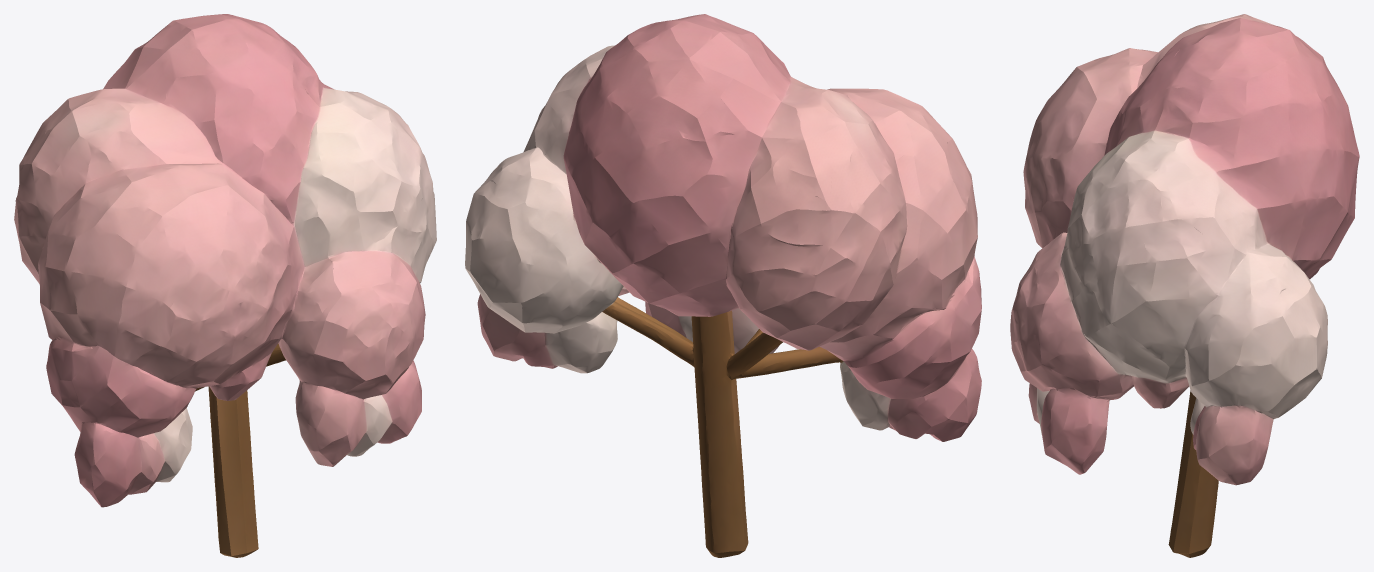
File: source.glb
3 renders of one model, left to right at view 1: azimuth 30°, elevation 25°; view 2: azimuth 150°, elevation 25°; view 3: azimuth 270°, elevation 25°, orthographic. The views are drawn at different scales.
Parts seen in each view (by area): view 1: model; view 2: model; view 3: model.
Boxes of the visible parts, box(x1,y1,x2,y2) form: model: box(14, 14, 436, 557); model: box(465, 14, 981, 557); model: box(1010, 14, 1359, 557).
Size of the model in its own units: 1.59 by 1.9 by 1.14.
Materials: 1 (1 with a texture image).
